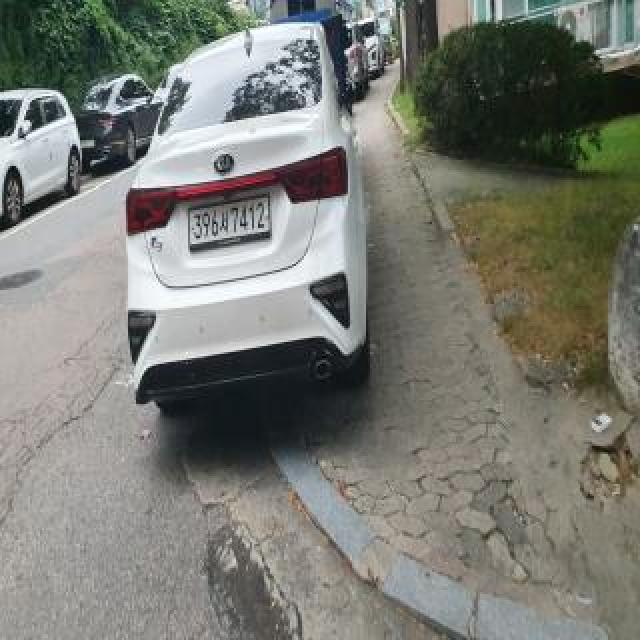car: (118, 20, 384, 421)
illegal_plate: (185, 192, 270, 256)
